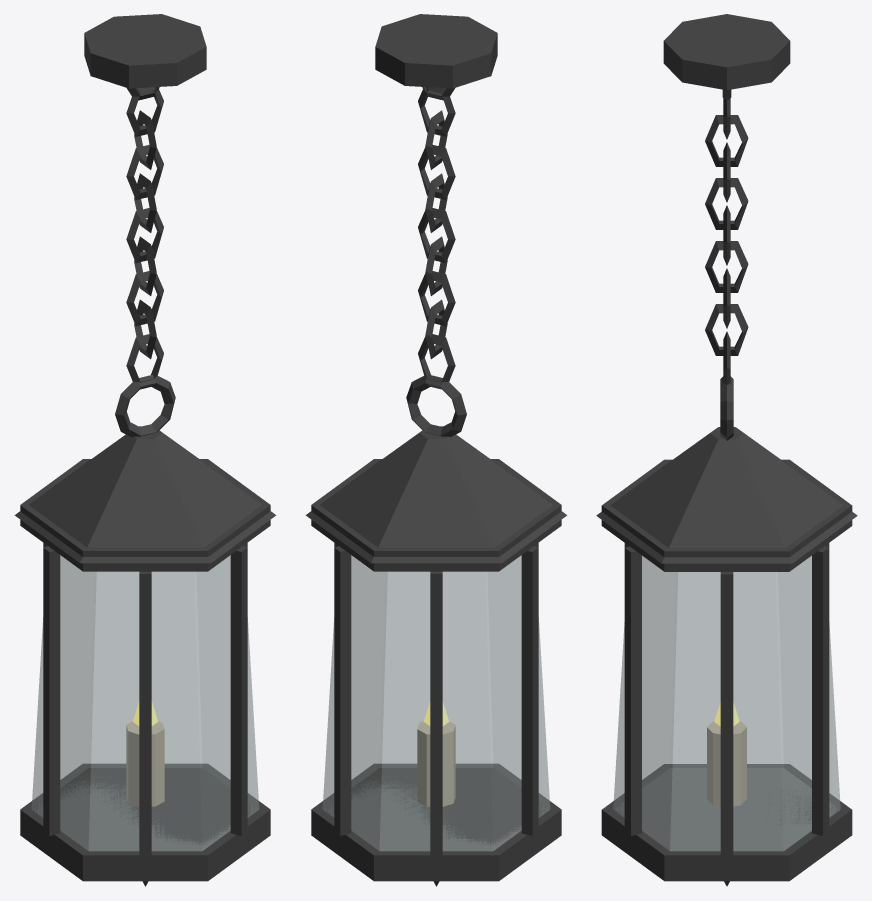
Rendered from hanging_lantern.glb.
3 views of the same model, side by side, from view 1: azimuth 30°, elevation 25°; view 2: azimuth 150°, elevation 25°; view 3: azimuth 270°, elevation 25° (orthographic).
Visible parts, largest first — view 1: hanging_lantern; view 2: hanging_lantern; view 3: hanging_lantern.
Boxes of the visible parts, <box> form: hanging_lantern: <box>14,14,276,886</box>; hanging_lantern: <box>305,14,567,886</box>; hanging_lantern: <box>596,14,857,886</box>.
Bounding box in the file's own units: 0.3618 × 1.48 × 0.414.
